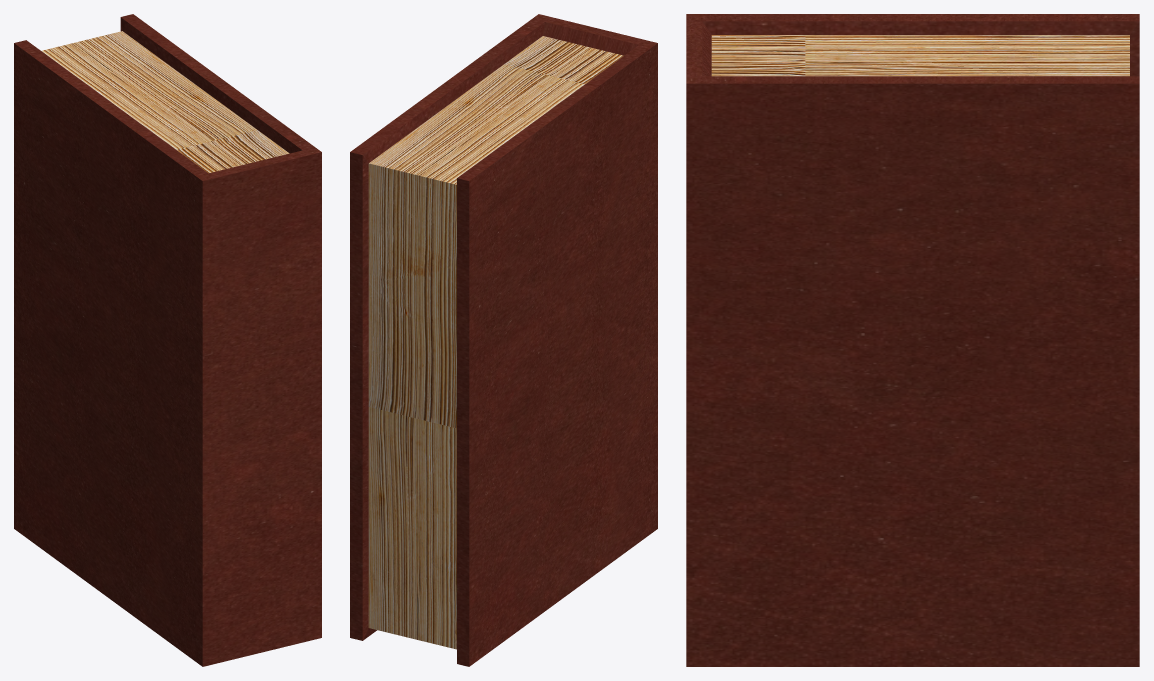
File: book.glb
The picture shows the model from 3 angles, left to right: view 1: azimuth 30°, elevation 25°; view 2: azimuth 150°, elevation 25°; view 3: azimuth 270°, elevation 25°; orthographic projection. The views are drawn at different scales.
Visible parts, largest first — view 1: Cube.001; view 2: Cube.001; view 3: Cube.001.
Boxes of the visible parts, box(x1,y1,x2,y2) form: Cube.001: box(14, 14, 321, 666); Cube.001: box(350, 14, 657, 666); Cube.001: box(686, 14, 1139, 666).
Size of the model in its own units: 0.1167 by 0.4546 by 0.3202.
2 materials, 2 textured.
